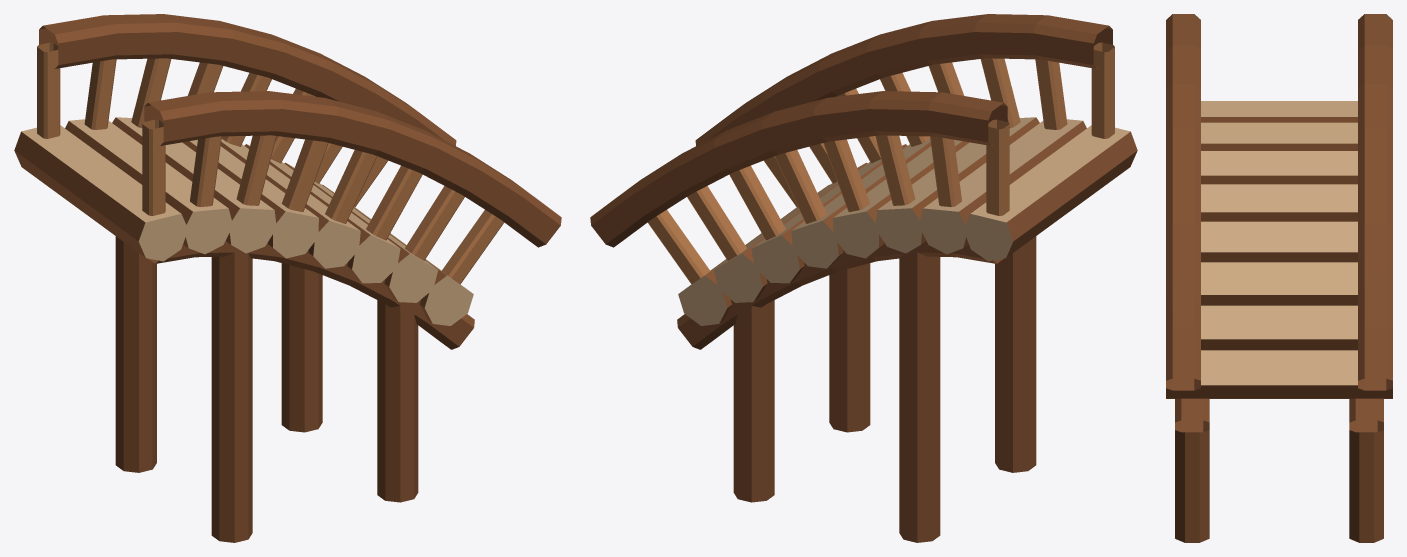
Rendered from Track_Bridge_Incline_Sharp_Flat_Supported.obj.
3 renders of one model, left to right at view 1: azimuth 30°, elevation 25°; view 2: azimuth 150°, elevation 25°; view 3: azimuth 270°, elevation 25°, orthographic. The views are drawn at different scales.
Parts seen in each view (by area): view 1: Bridge_Pier, Bridge_Rail, Bridge_Rail_Support, Log_Plank_End, Log_Plank_Top, Log_Plank_Bark, Bridge_Support_Beam; view 2: Bridge_Pier, Bridge_Rail, Bridge_Rail_Support, Log_Plank_End, Log_Plank_Top, Log_Plank_Bark, Bridge_Support_Beam; view 3: Log_Plank_Top, Bridge_Rail, Log_Plank_Bark, Bridge_Pier, Bridge_Support_Beam.
Part boxes in pixels (box(x1,y1,x2,y2)): Bridge_Pier: box(115, 236, 418, 542); Bridge_Rail: box(39, 14, 561, 247); Bridge_Rail_Support: box(37, 42, 504, 284); Log_Plank_End: box(138, 208, 473, 325); Log_Plank_Top: box(21, 117, 470, 291); Log_Plank_Bark: box(14, 117, 446, 323); Bridge_Support_Beam: box(148, 240, 474, 349); Bridge_Pier: box(733, 236, 1036, 542); Bridge_Rail: box(590, 14, 1112, 247); Bridge_Rail_Support: box(647, 42, 1114, 284); Log_Plank_End: box(678, 208, 1013, 325); Log_Plank_Top: box(681, 117, 1130, 291); Log_Plank_Bark: box(705, 117, 1137, 323); Bridge_Support_Beam: box(677, 240, 1003, 349); Log_Plank_Top: box(1201, 101, 1357, 385); Bridge_Rail: box(1166, 14, 1392, 390); Log_Plank_Bark: box(1166, 117, 1392, 398); Bridge_Pier: box(1175, 430, 1383, 542); Bridge_Support_Beam: box(1175, 398, 1383, 432).
Size of the model in its own units: 2.57 by 2.6 by 1.3.
